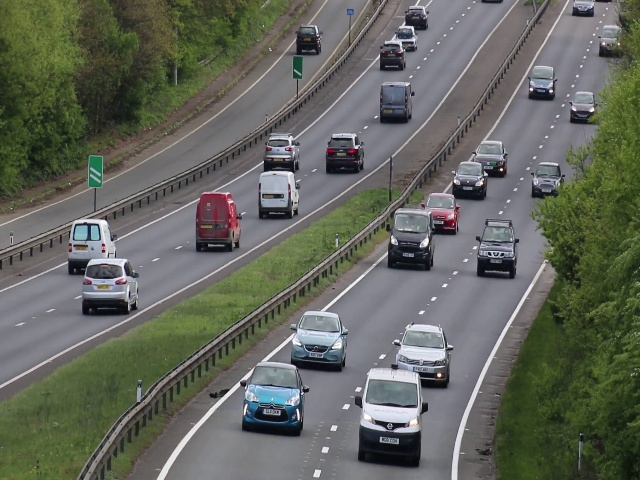car: (359, 370, 424, 465), (241, 358, 307, 436), (393, 323, 454, 385), (292, 307, 348, 374), (83, 256, 139, 317), (194, 190, 244, 253), (388, 207, 436, 272), (68, 219, 117, 274), (475, 220, 519, 278), (259, 170, 301, 217), (324, 132, 366, 173), (426, 191, 460, 236), (528, 54, 559, 103), (380, 83, 417, 123), (262, 133, 302, 168), (530, 158, 561, 199), (454, 161, 486, 200), (476, 138, 507, 178), (293, 24, 324, 54), (378, 41, 408, 72), (571, 87, 594, 123), (599, 22, 617, 60), (405, 5, 426, 29), (571, 1, 595, 16)
